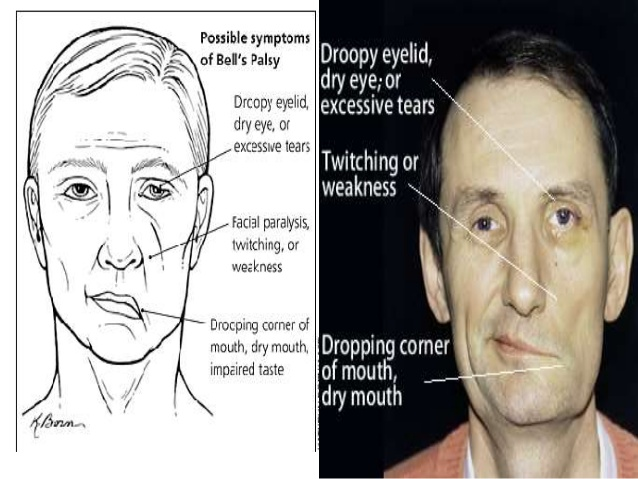stroke: (446, 166, 595, 393)
